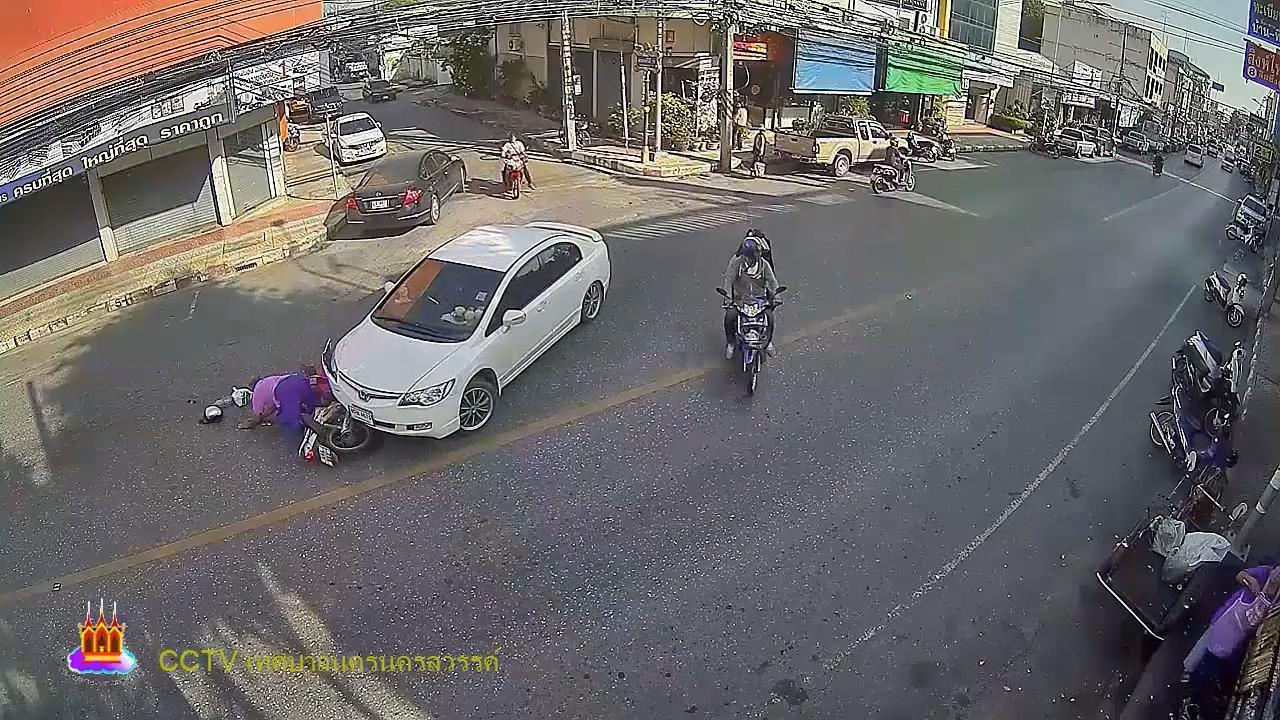accident: (248, 367, 325, 439)
